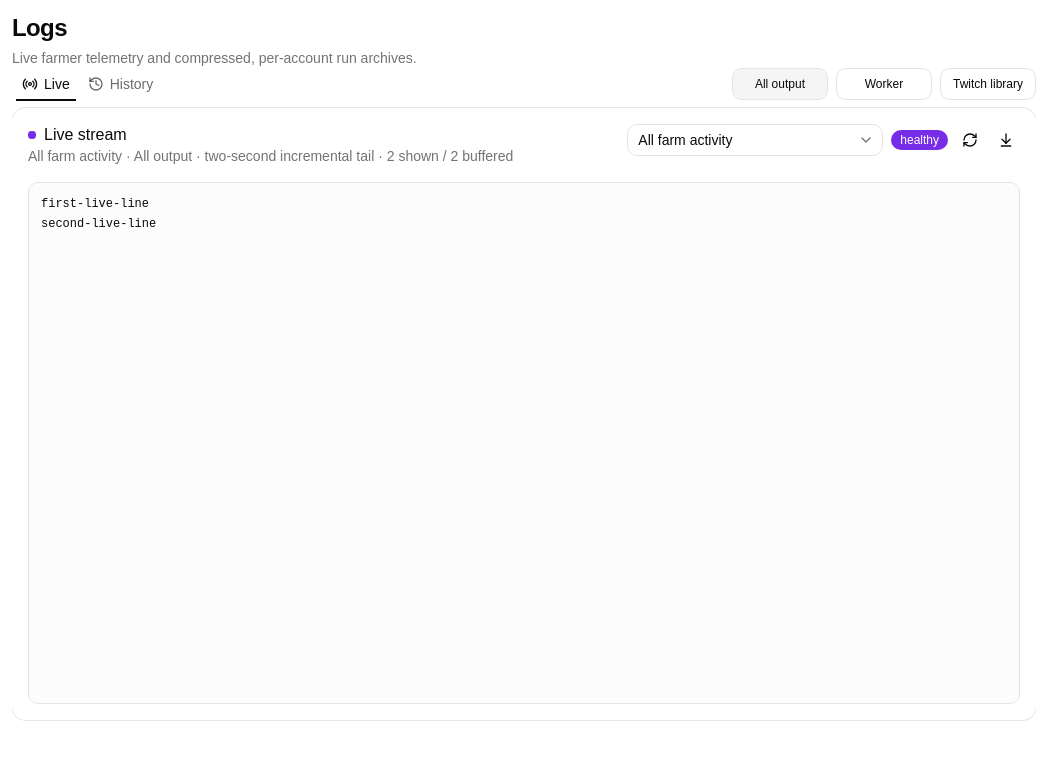
it: LogsPage › appends cursor updates and switches the live source to an archived account
The width and height of the screenshot is (1048, 780).
Expected: the text "first-live-line second-live-line" is shown, x1=41 y1=197 x2=156 y2=230
Click the dropdown named "Log account" at [755, 140], box x1=627 y1=124 x2=883 y2=156
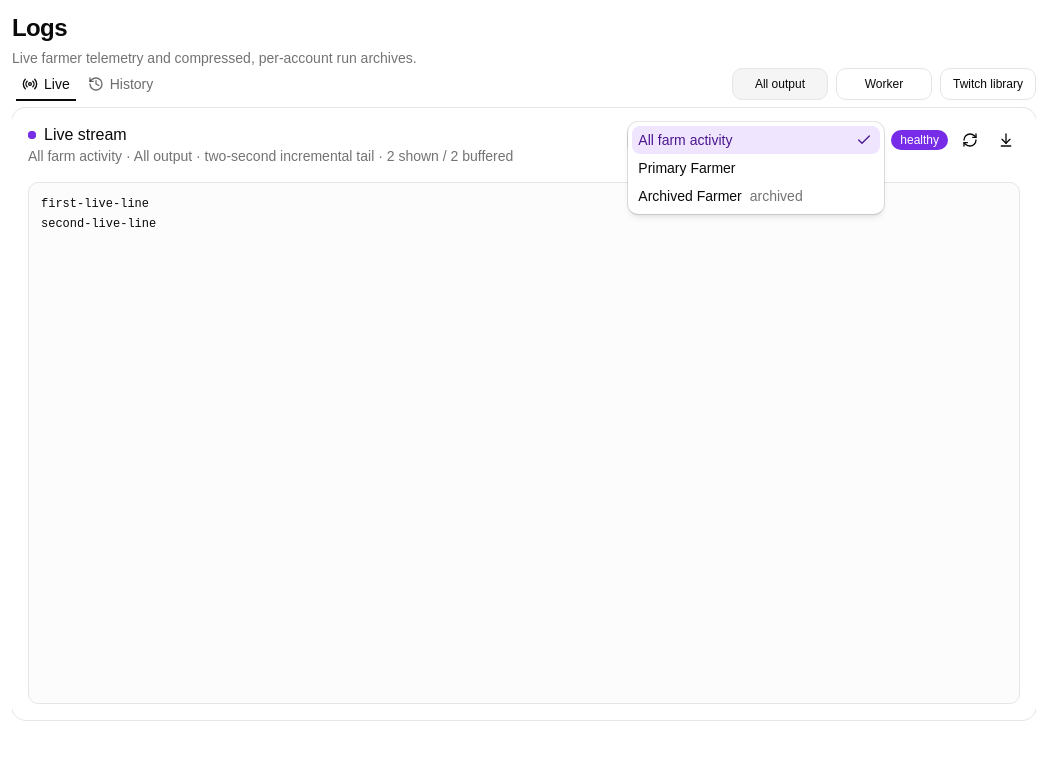
Click the option "Archived Farmer archived" at [720, 196], box x1=638 y1=188 x2=803 y2=204
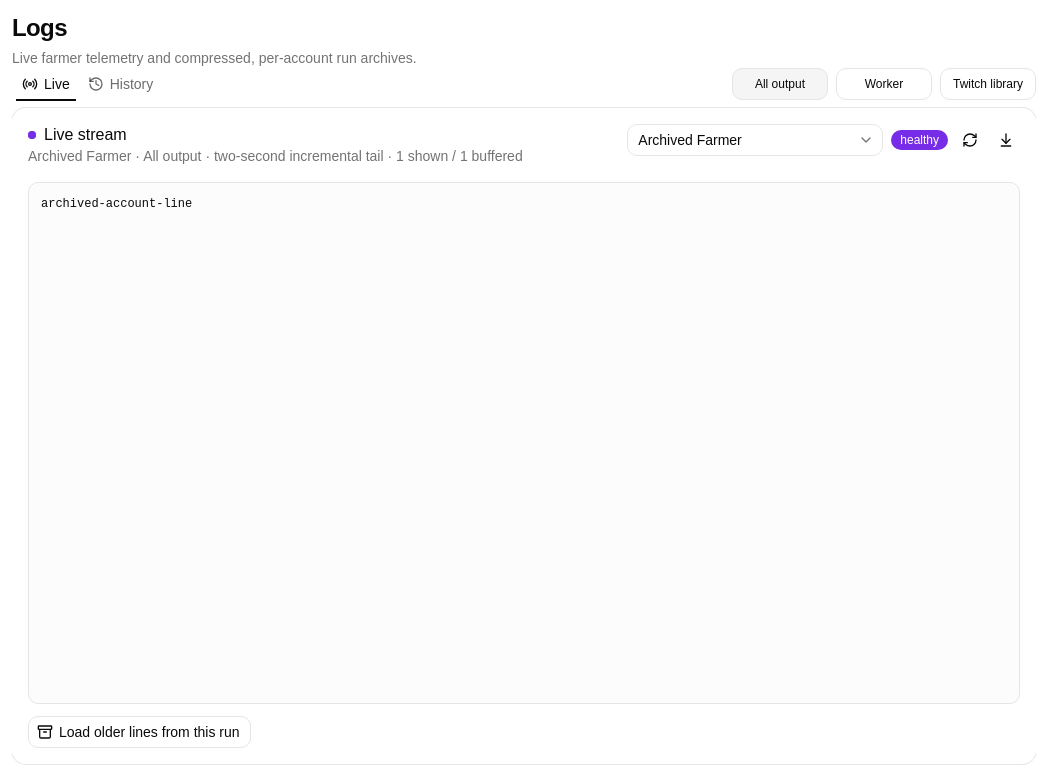
Result: the text "archived-account-line" is shown at x1=41 y1=197 x2=192 y2=211
Click the button "Load older lines from this run" at [139, 732], box x1=28 y1=716 x2=250 y2=748
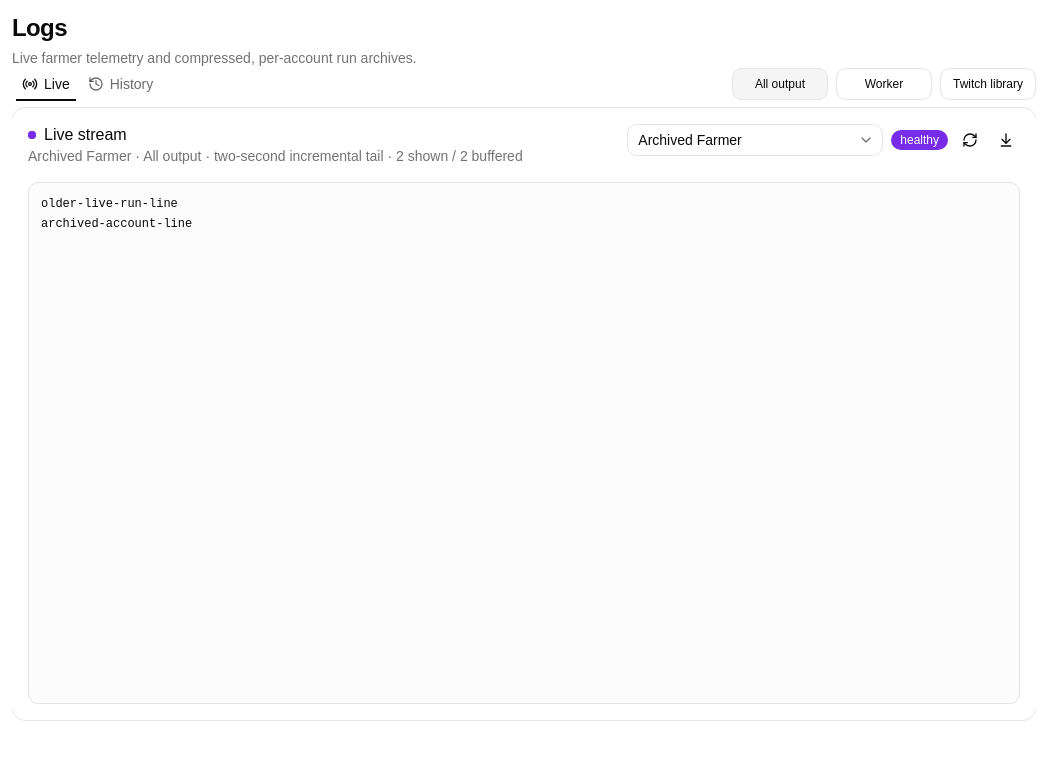
Result: the text "older-live-run-line archived-account-line" is shown at x1=41 y1=197 x2=192 y2=230
Result: the button "Load older lines from this run" is gone
